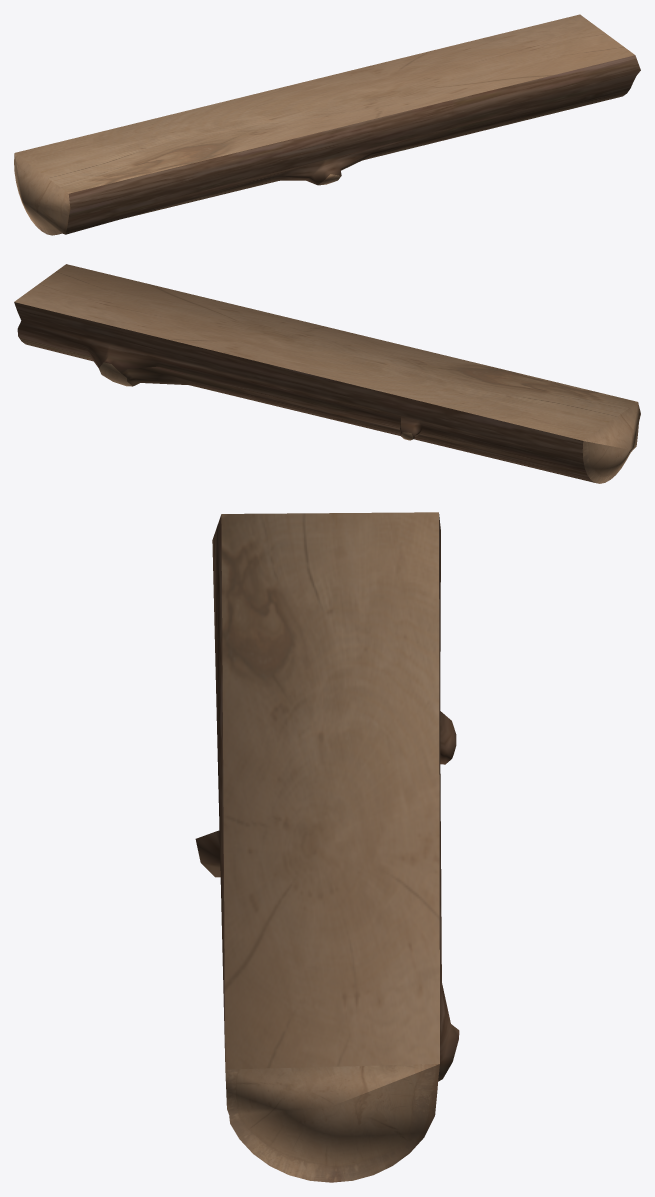
The model's file is tronco.fbx.
The picture shows the model from 3 angles, top to bottom: view 1: azimuth 30°, elevation 25°; view 2: azimuth 150°, elevation 25°; view 3: azimuth 270°, elevation 25°; orthographic projection. The views are drawn at different scales.
Visible parts, largest first — view 1: Cylinder; view 2: Cylinder; view 3: Cylinder.
Boxes of the visible parts, <box> form: Cylinder: <box>14,14,640,235</box>; Cylinder: <box>14,264,640,483</box>; Cylinder: <box>195,512,459,1182</box>.
Bounding box in the file's own units: 815 × 81.49 × 157.
